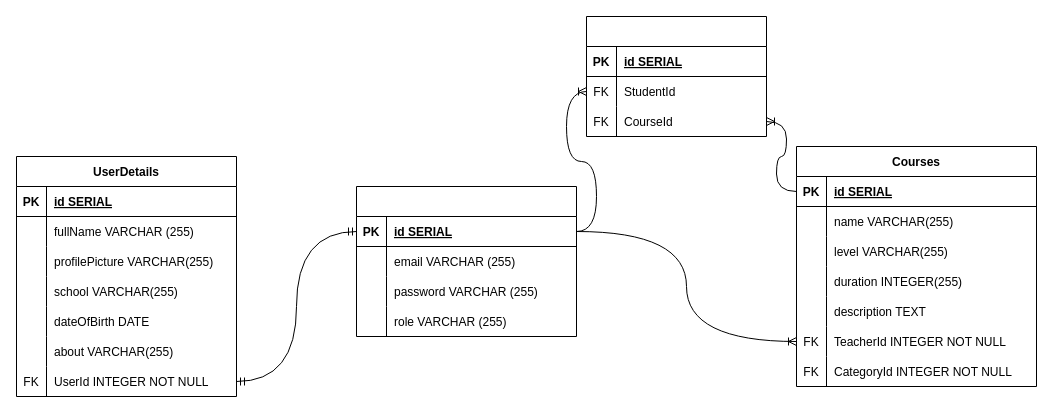
This 1053x413 diagram has some shape labels left out. Each missing label, with the box of its shape:
StudentCourses: (586, 16, 766, 136)
Users: (356, 186, 576, 336)
